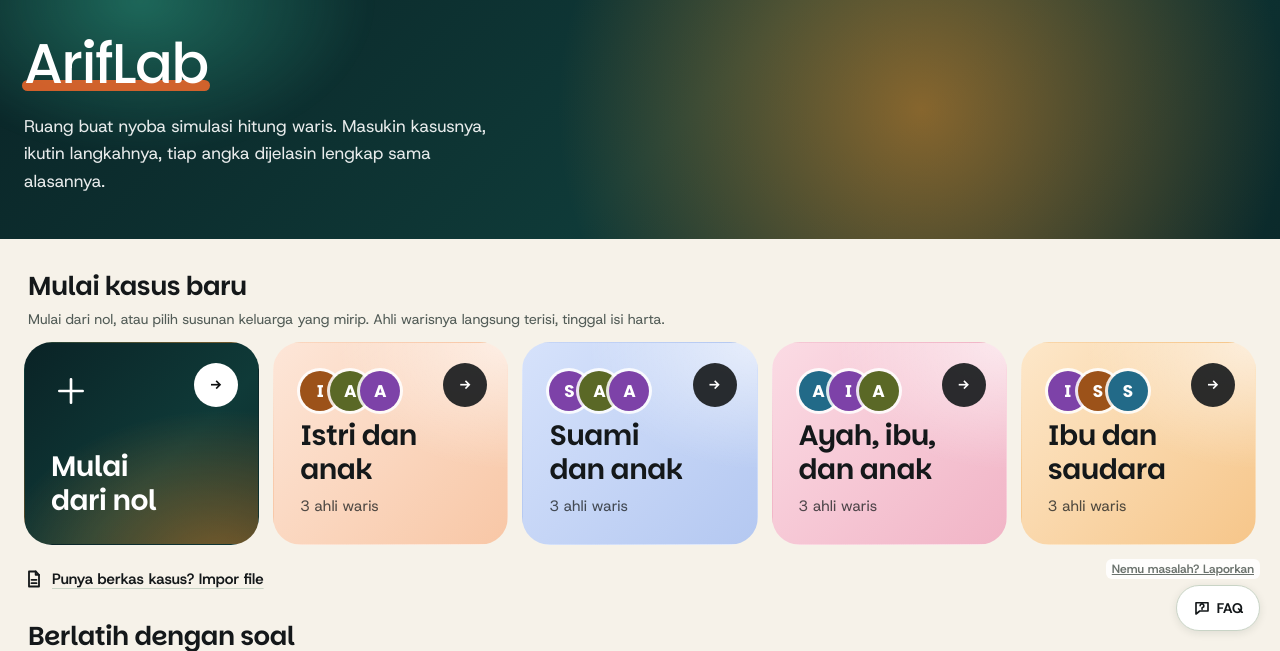
it: ringkasan kasus di samping langkah ikut terisi
This screenshot has width=1280, height=651.
Click the button "→ Mulai dari nol": (142, 443) [24, 342, 259, 545]
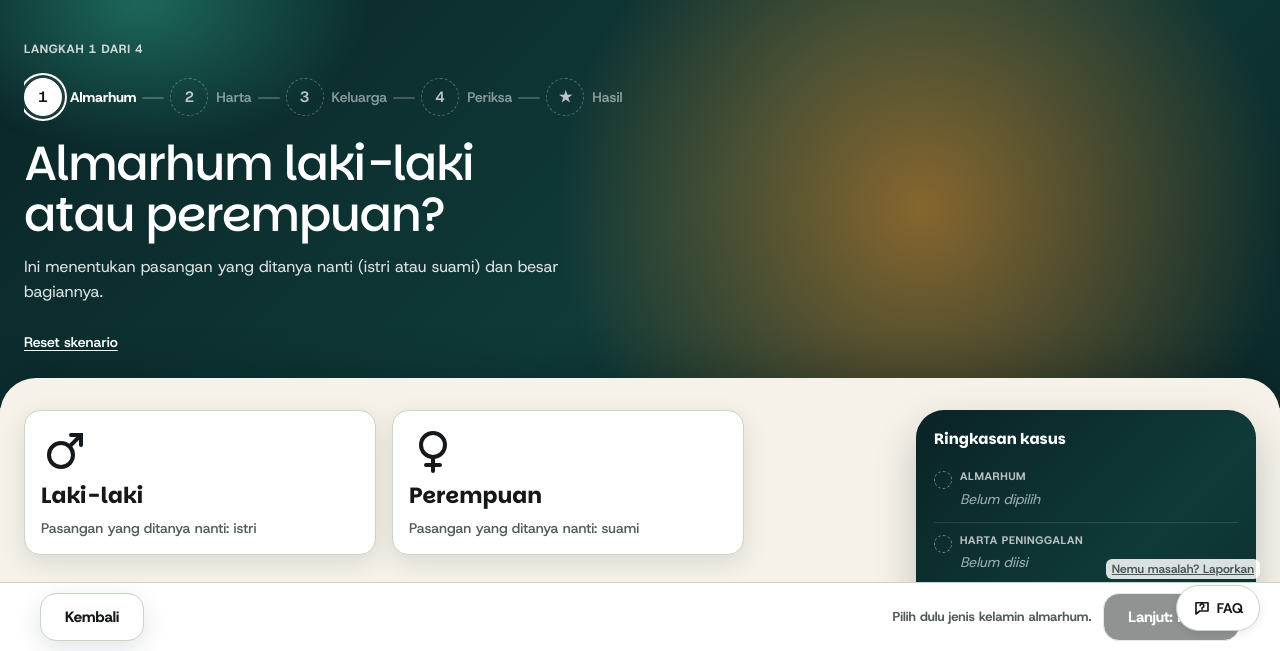
Click the radio button labelled "Perempuan Pasangan yang ditanya nanti: suami": (433, 451) [392, 410, 744, 555]
(page scrolled)
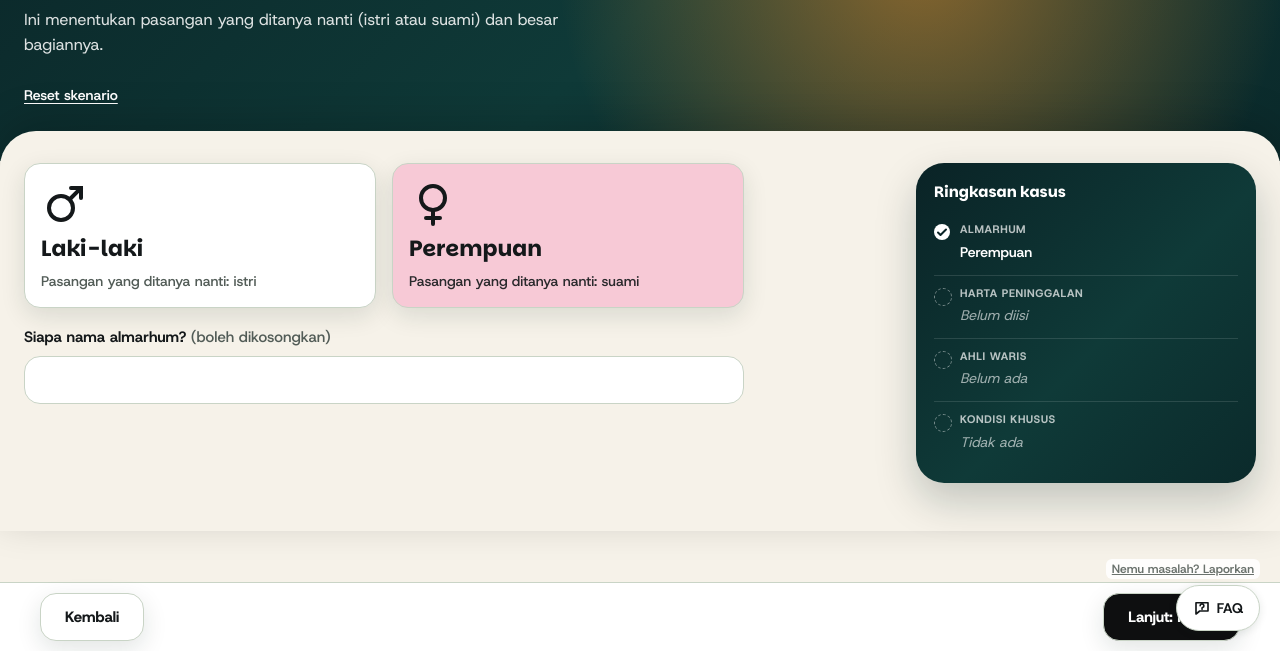
Result: the element "Ringkasan kasus" shows "Belum ada" at [960, 369, 1027, 387]
Result: the element "Ringkasan kasus" shows "Perempuan" at [960, 243, 1032, 261]
